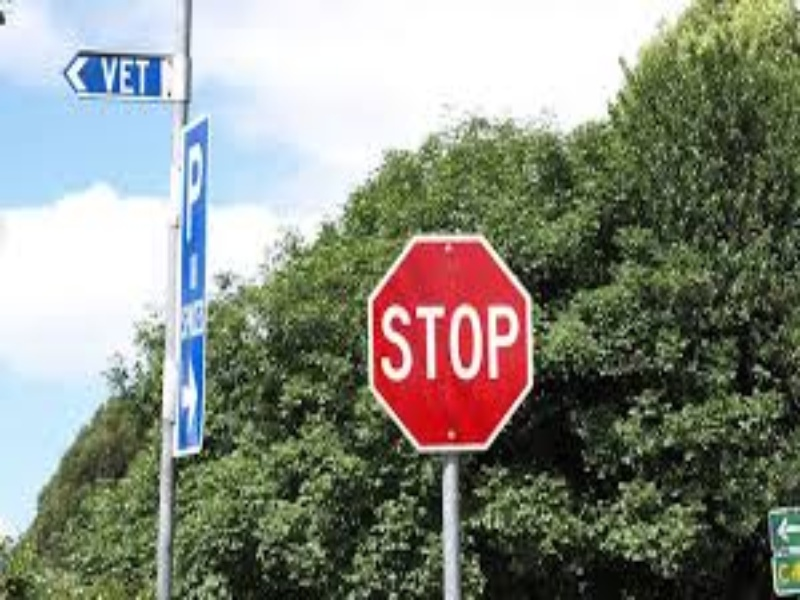Stop_Sign: (366, 232, 537, 453)
